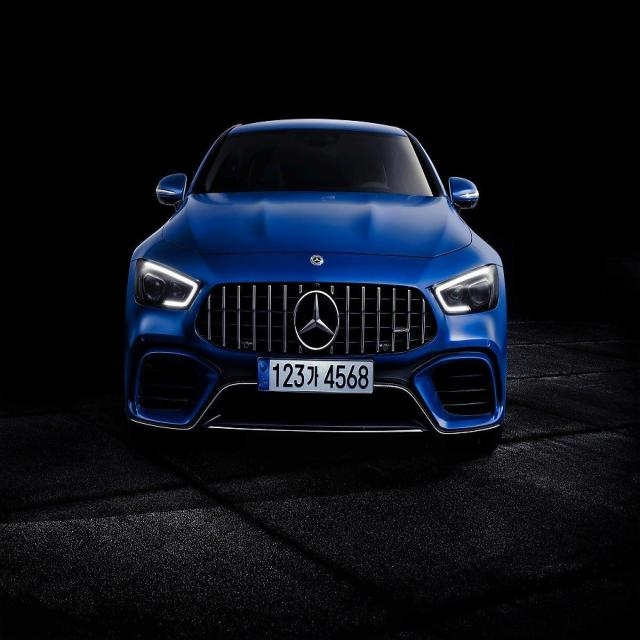car: (120, 110, 510, 460)
illegal_plate: (260, 355, 378, 400)
